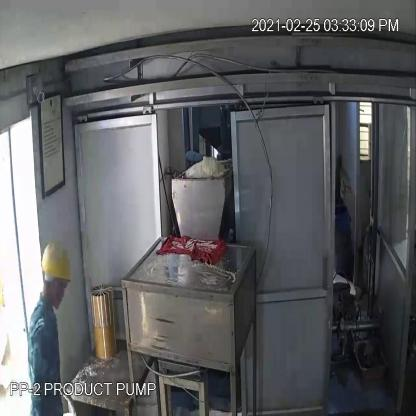helmet: (37, 237, 77, 284)
